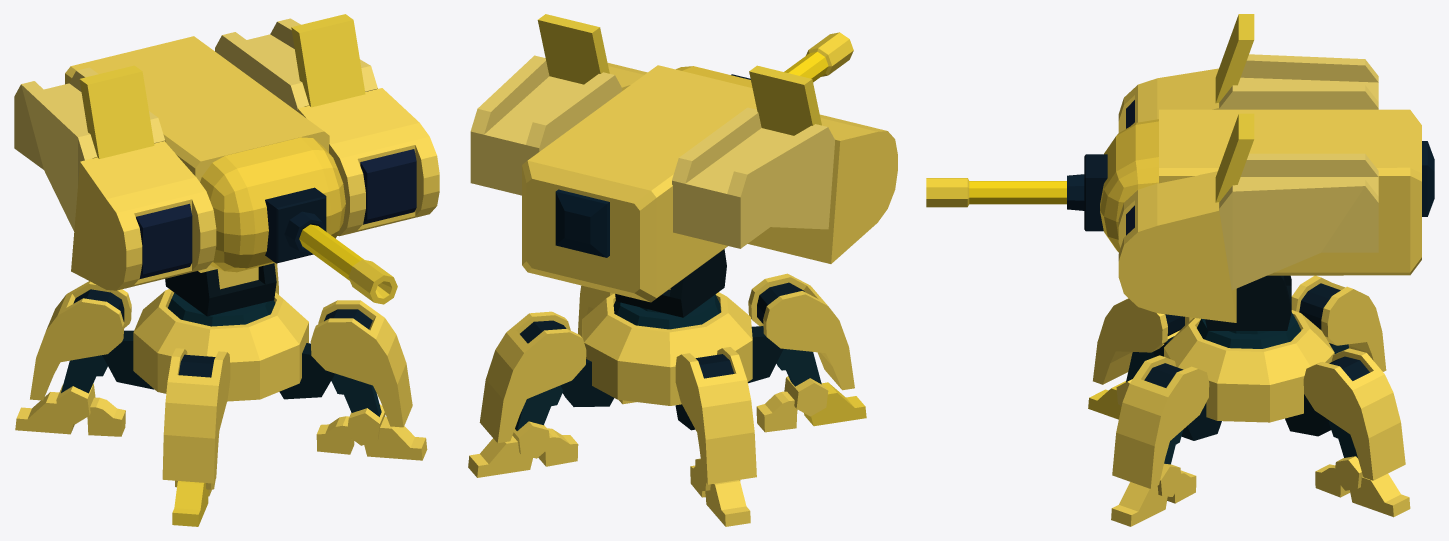
Rendered from Rotated (1).fbx.
3 renders of one model, left to right at view 1: azimuth 30°, elevation 25°; view 2: azimuth 150°, elevation 25°; view 3: azimuth 270°, elevation 25°, orthographic. The views are drawn at different scales.
Parts seen in each view (by area): view 1: Cube.014, Cube.001, Cube.015; view 2: Cube.014, Cube.001, Cube.015; view 3: Cube.014, Cube.001, Cube.015.
Boxes of the visible parts, bbox=[...] form: Cube.014: bbox=[14, 14, 439, 316]; Cube.001: bbox=[15, 263, 427, 526]; Cube.015: bbox=[265, 187, 397, 304]; Cube.014: bbox=[470, 14, 897, 317]; Cube.001: bbox=[468, 273, 866, 526]; Cube.015: bbox=[731, 32, 853, 82]; Cube.014: bbox=[1100, 14, 1434, 330]; Cube.001: bbox=[1088, 275, 1410, 526]; Cube.015: bbox=[926, 154, 1107, 231].
Bounding box in the file's own units: 265 × 318 × 386.
